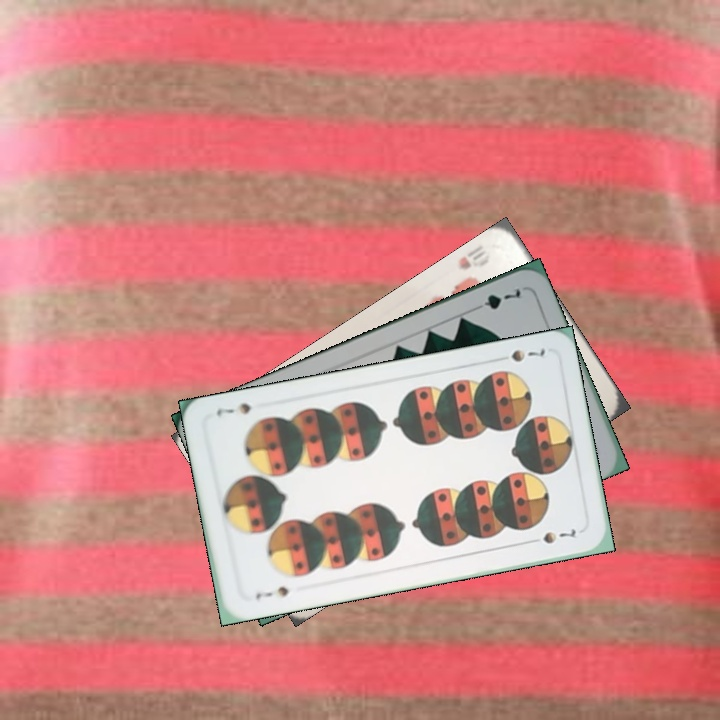G7: (468, 281, 524, 314)
H10: (454, 246, 494, 273)
S7: (507, 345, 548, 365), (251, 582, 291, 602)
